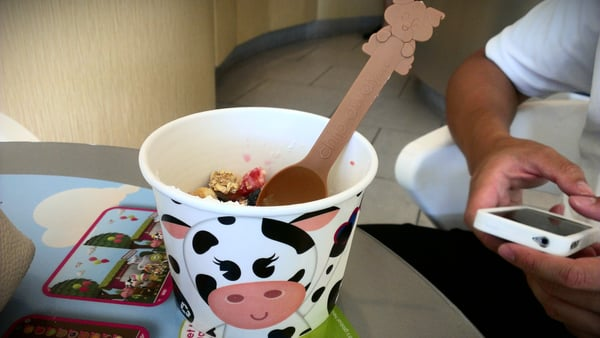pizza: (137, 105, 380, 332)
